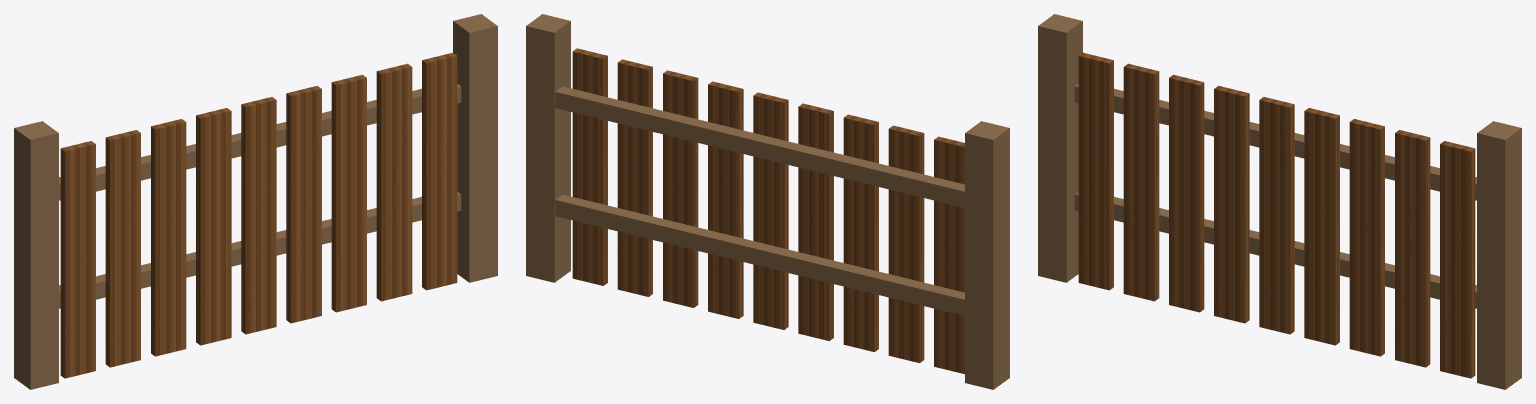
The model's file is fence_wood_plank.glb.
3 views of the same model, side by side, from view 1: azimuth 30°, elevation 25°; view 2: azimuth 150°, elevation 25°; view 3: azimuth 330°, elevation 25° (orthographic).
Visible parts, largest first — view 1: fence_wood_plank; view 2: fence_wood_plank; view 3: fence_wood_plank.
Boxes of the visible parts, left/top/right/bottom form: fence_wood_plank: left=14, top=14, right=497, bottom=389; fence_wood_plank: left=526, top=14, right=1009, bottom=389; fence_wood_plank: left=1038, top=14, right=1521, bottom=389.
Size of the model in its own units: 3.62 by 1.85 by 0.22.
Materials: 2 (1 with a texture image).
